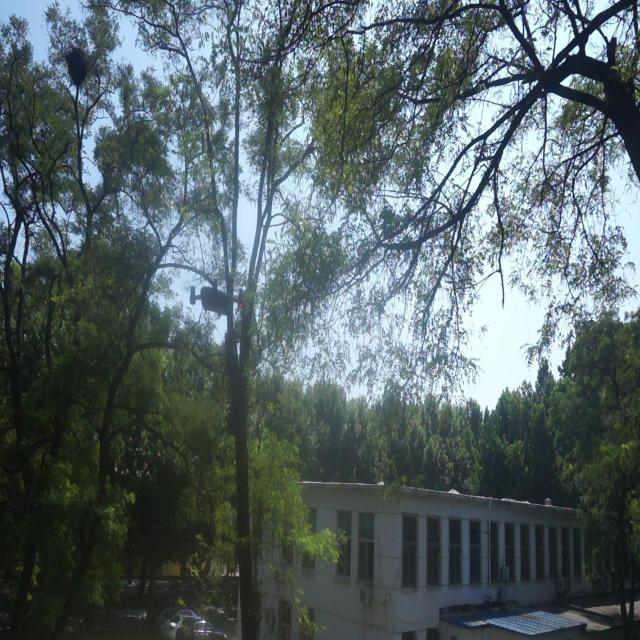drone: (186, 271, 246, 325)
